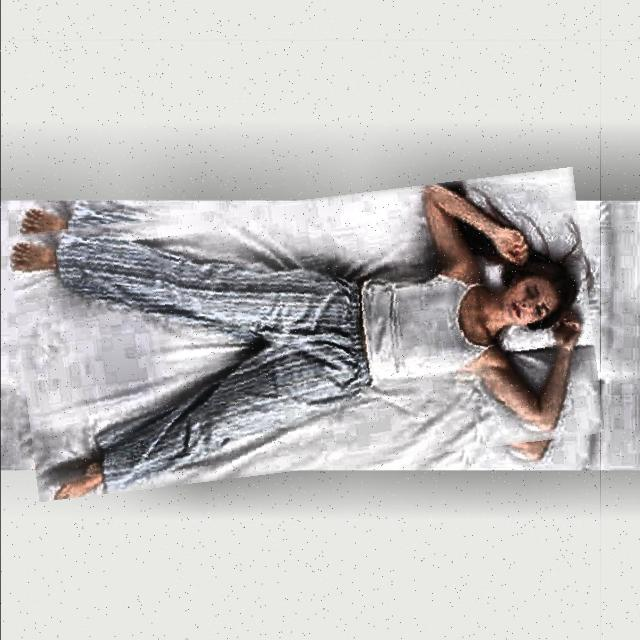Supine: (10, 184, 584, 500)
